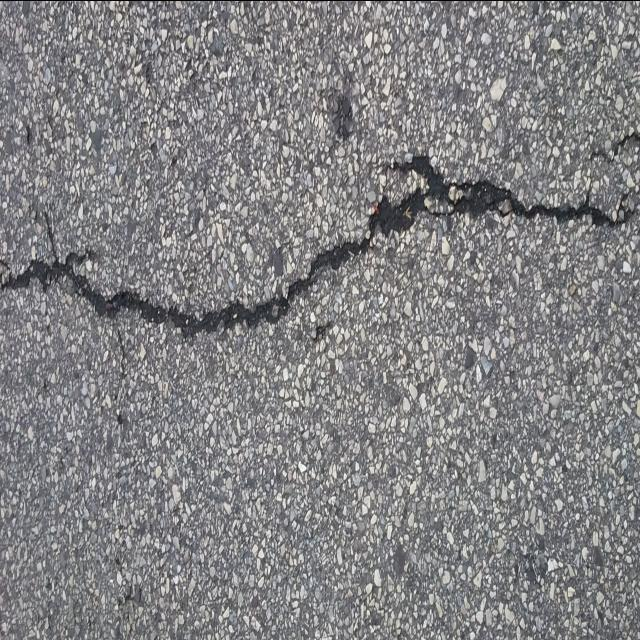Crack: (0, 132, 640, 339)
